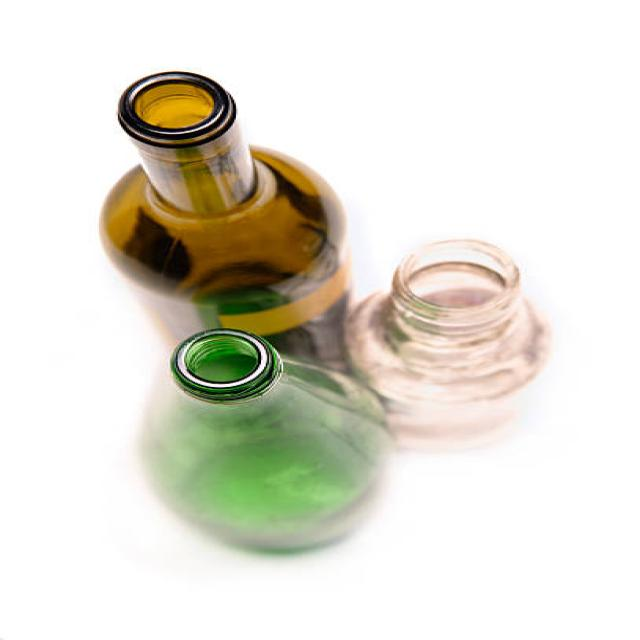electronic: (98, 68, 554, 567)
